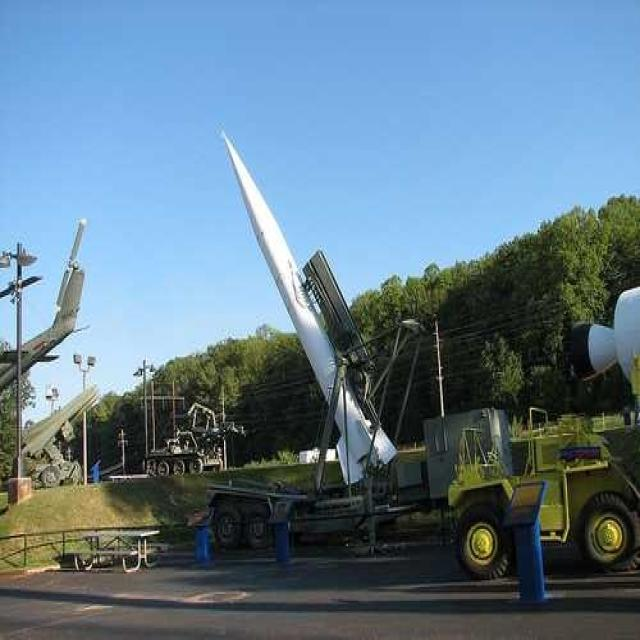missile: (219, 129, 394, 474)
